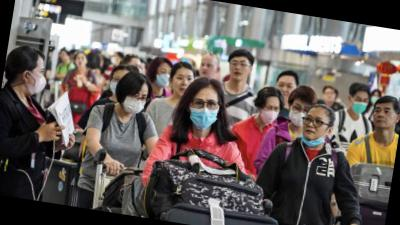mask_weared_incorrect: (300, 112, 331, 143)
with_mask: (185, 94, 221, 134), (287, 100, 311, 130), (27, 65, 49, 97), (121, 90, 148, 115), (259, 103, 281, 127), (107, 74, 127, 99), (154, 66, 175, 89), (350, 95, 370, 117), (370, 94, 383, 107)
without_mask: (371, 104, 399, 131), (170, 71, 196, 99), (228, 57, 252, 83), (275, 79, 297, 102), (197, 58, 218, 80), (324, 89, 338, 105), (73, 55, 87, 70)
